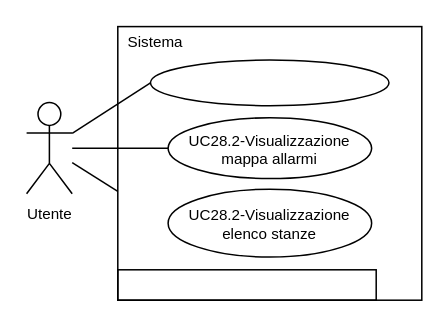
This 448x327 diagram has some shape labels left out. The centre of each missing label's shape, as x and y in pixels:
UC28-Visualizzazione appartamento: point (246, 284)
UC28.1-Visualizzazione nome: point (269, 82)
